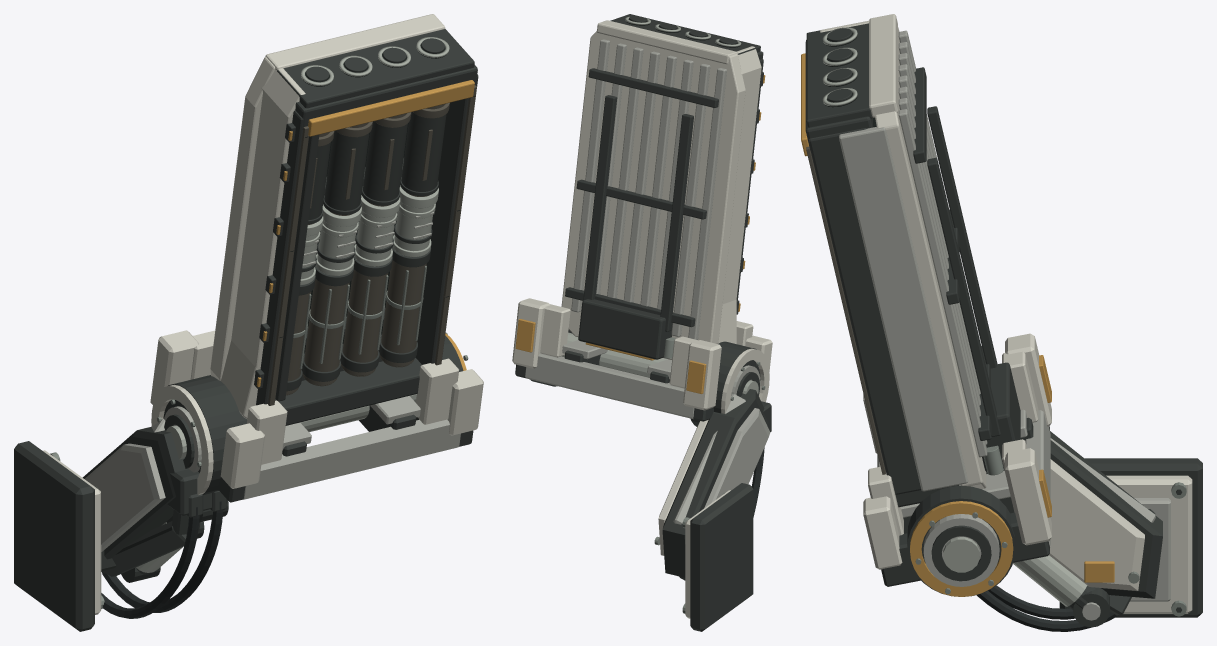
The model's file is vertical-pods-a-hip-assembly-v1.glb.
3 renders of one model, left to right at view 1: azimuth 30°, elevation 25°; view 2: azimuth 150°, elevation 25°; view 3: azimuth 270°, elevation 25°, orthographic. The views are drawn at different scales.
Parts seen in each view (by area): view 1: A | cassette | charcoal frame, HipBracket_A, RotatingCradle_A, A | cassette | warm ceramic armor, A | cassette | brown gunmetal sleeves, A | cassette | aged silver bands, A | cassette | ochre trim, A | cassette | fasteners, A | cassette | dark recess; view 2: A | cassette | warm ceramic armor, HipBracket_A, A | cassette | worn armor edges, A | cassette | charcoal frame, RotatingCradle_A, A | cassette | aged silver bands; view 3: A | cassette | charcoal frame, HipBracket_A, A | cassette | worn armor edges, RotatingCradle_A, A | cassette | warm ceramic armor, A | cassette | brown gunmetal sleeves, A | cassette | aged silver bands.
Part boxes in pixels (bbox=[...]): A | cassette | charcoal frame: bbox=[254, 29, 478, 425]; HipBracket_A: bbox=[14, 375, 416, 631]; RotatingCradle_A: bbox=[150, 330, 483, 502]; A | cassette | warm ceramic armor: bbox=[210, 14, 445, 418]; A | cassette | brown gunmetal sleeves: bbox=[268, 85, 476, 405]; A | cassette | aged silver bands: bbox=[300, 37, 449, 285]; A | cassette | ochre trim: bbox=[256, 80, 474, 387]; A | cassette | fasteners: bbox=[293, 210, 455, 369]; A | cassette | dark recess: bbox=[279, 44, 474, 353]; A | cassette | warm ceramic armor: bbox=[561, 20, 761, 359]; HipBracket_A: bbox=[562, 332, 771, 631]; A | cassette | worn armor edges: bbox=[571, 39, 726, 339]; A | cassette | charcoal frame: bbox=[565, 14, 763, 359]; RotatingCradle_A: bbox=[512, 298, 772, 421]; A | cassette | aged silver bands: bbox=[625, 16, 741, 46]; A | cassette | charcoal frame: bbox=[805, 23, 1020, 507]; HipBracket_A: bbox=[976, 431, 1202, 631]; A | cassette | worn armor edges: bbox=[839, 30, 987, 491]; RotatingCradle_A: bbox=[863, 333, 1051, 596]; A | cassette | warm ceramic armor: bbox=[820, 14, 986, 488]; A | cassette | brown gunmetal sleeves: bbox=[806, 146, 885, 474]; A | cassette | aged silver bands: bbox=[822, 27, 857, 106].
Bounding box in the file's own units: 1.56 × 2.72 × 1.52.
